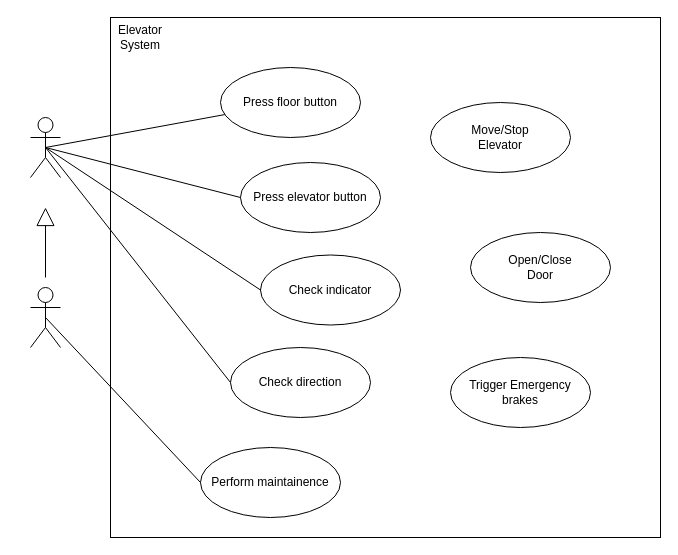
Image size: 678x555. Some labels were removed from this diagram. Each missing label, with the box of its shape:
Actor: (30, 116, 60, 178)
Maintainer: (30, 286, 60, 348)
